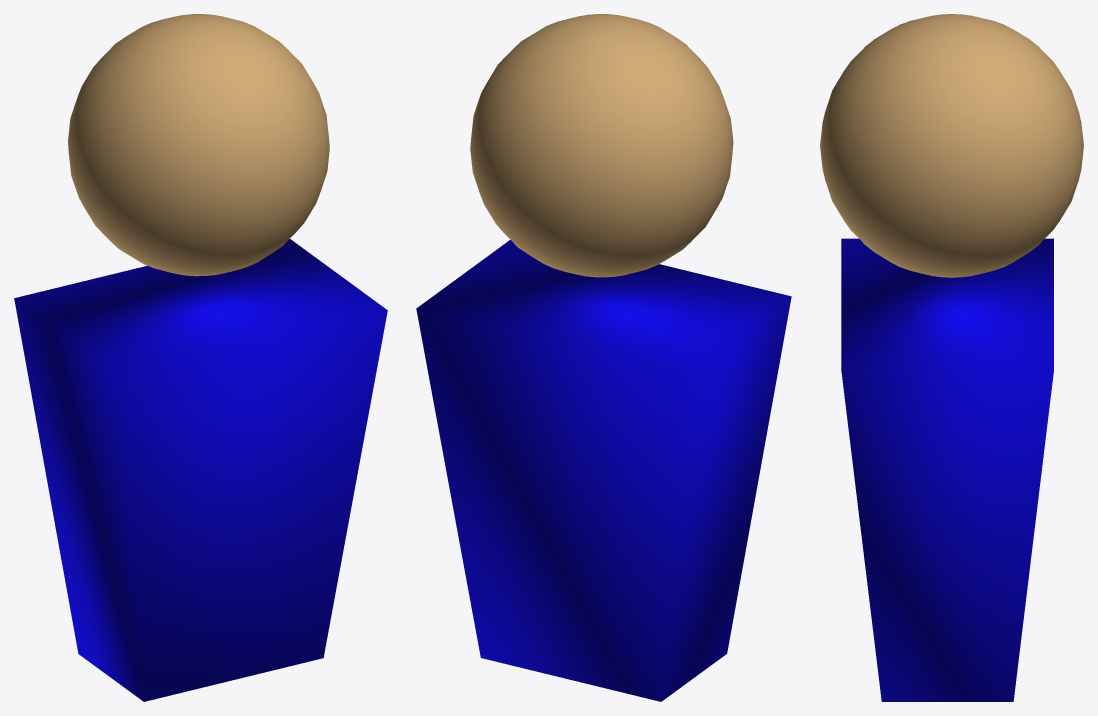
Rendered from Customer.fbx.
3 renders of one model, left to right at view 1: azimuth 30°, elevation 25°; view 2: azimuth 150°, elevation 25°; view 3: azimuth 270°, elevation 25°, orthographic.
Parts seen in each view (by area): view 1: Body; view 2: Body; view 3: Body.
Part boxes in pixels (box(x1,y1,x2,y2)): Body: box(14, 14, 387, 701); Body: box(416, 14, 791, 701); Body: box(820, 14, 1083, 701).
Bounding box in the file's own units: 75.4 × 169 × 64.
